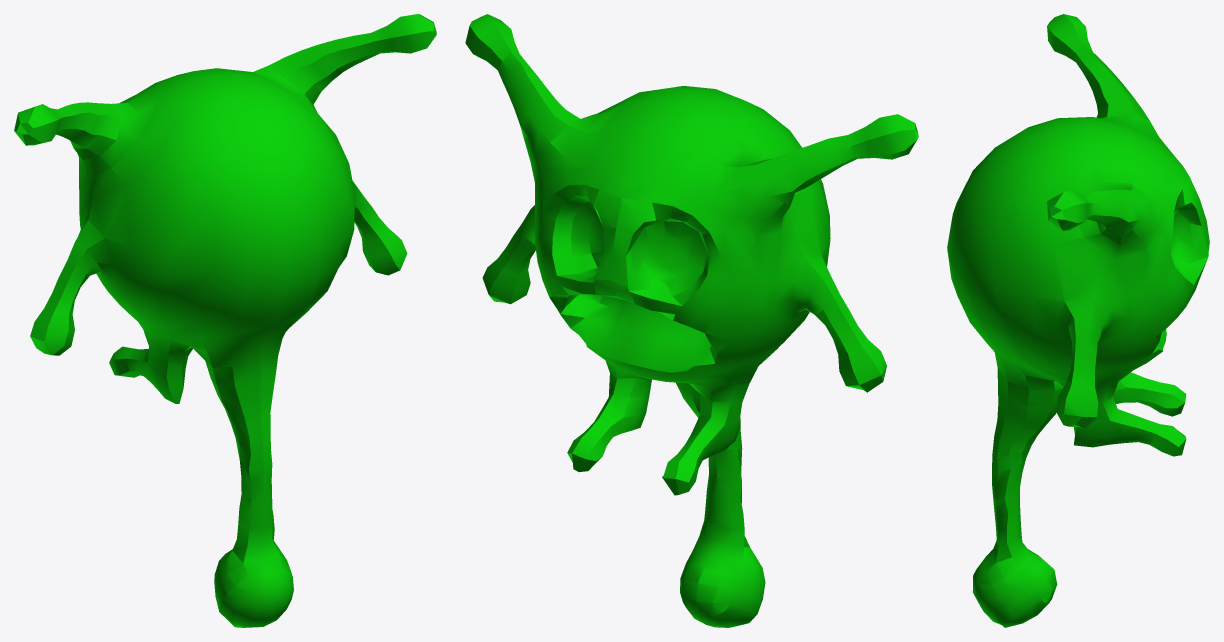
Rendered from retopo.obj.
3 renders of one model, left to right at view 1: azimuth 30°, elevation 25°; view 2: azimuth 150°, elevation 25°; view 3: azimuth 270°, elevation 25°, orthographic. The views are drawn at different scales.
Parts seen in each view (by area): view 1: Mesh; view 2: Mesh; view 3: Mesh.
Boxes of the visible parts, x1,y1,x2,y2 form: Mesh: [14, 14, 436, 627]; Mesh: [465, 14, 918, 627]; Mesh: [947, 14, 1209, 627].
Bounding box in the file's own units: 3.47 × 4.32 × 1.98.
